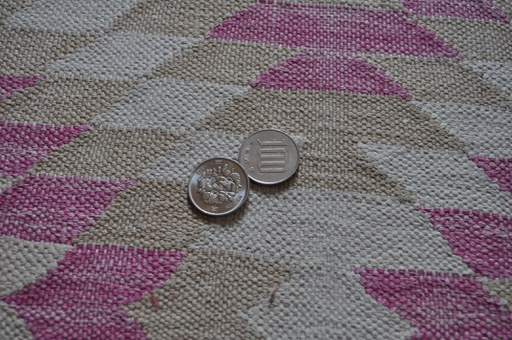100yen: (189, 158, 248, 216), (238, 131, 298, 185)
